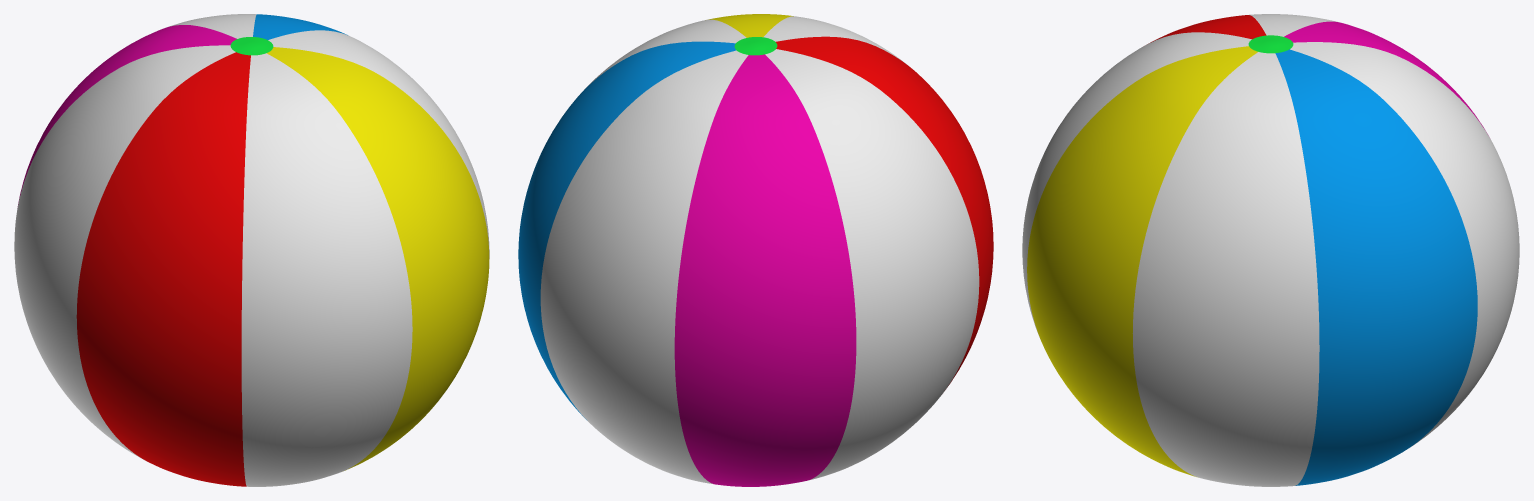
File: BeachBall1.glb
3 renders of one model, left to right at view 1: azimuth 30°, elevation 25°; view 2: azimuth 150°, elevation 25°; view 3: azimuth 270°, elevation 25°, orthographic.
Visible parts, largest first — view 1: Sphere.001; view 2: Sphere.001; view 3: Sphere.001.
Part boxes in pixels (x1,y1,x2,y2): Sphere.001: [14, 14, 489, 486]; Sphere.001: [518, 14, 993, 486]; Sphere.001: [1022, 14, 1519, 486].
Bounding box in the file's own units: 9.84 × 9.52 × 10.34.
